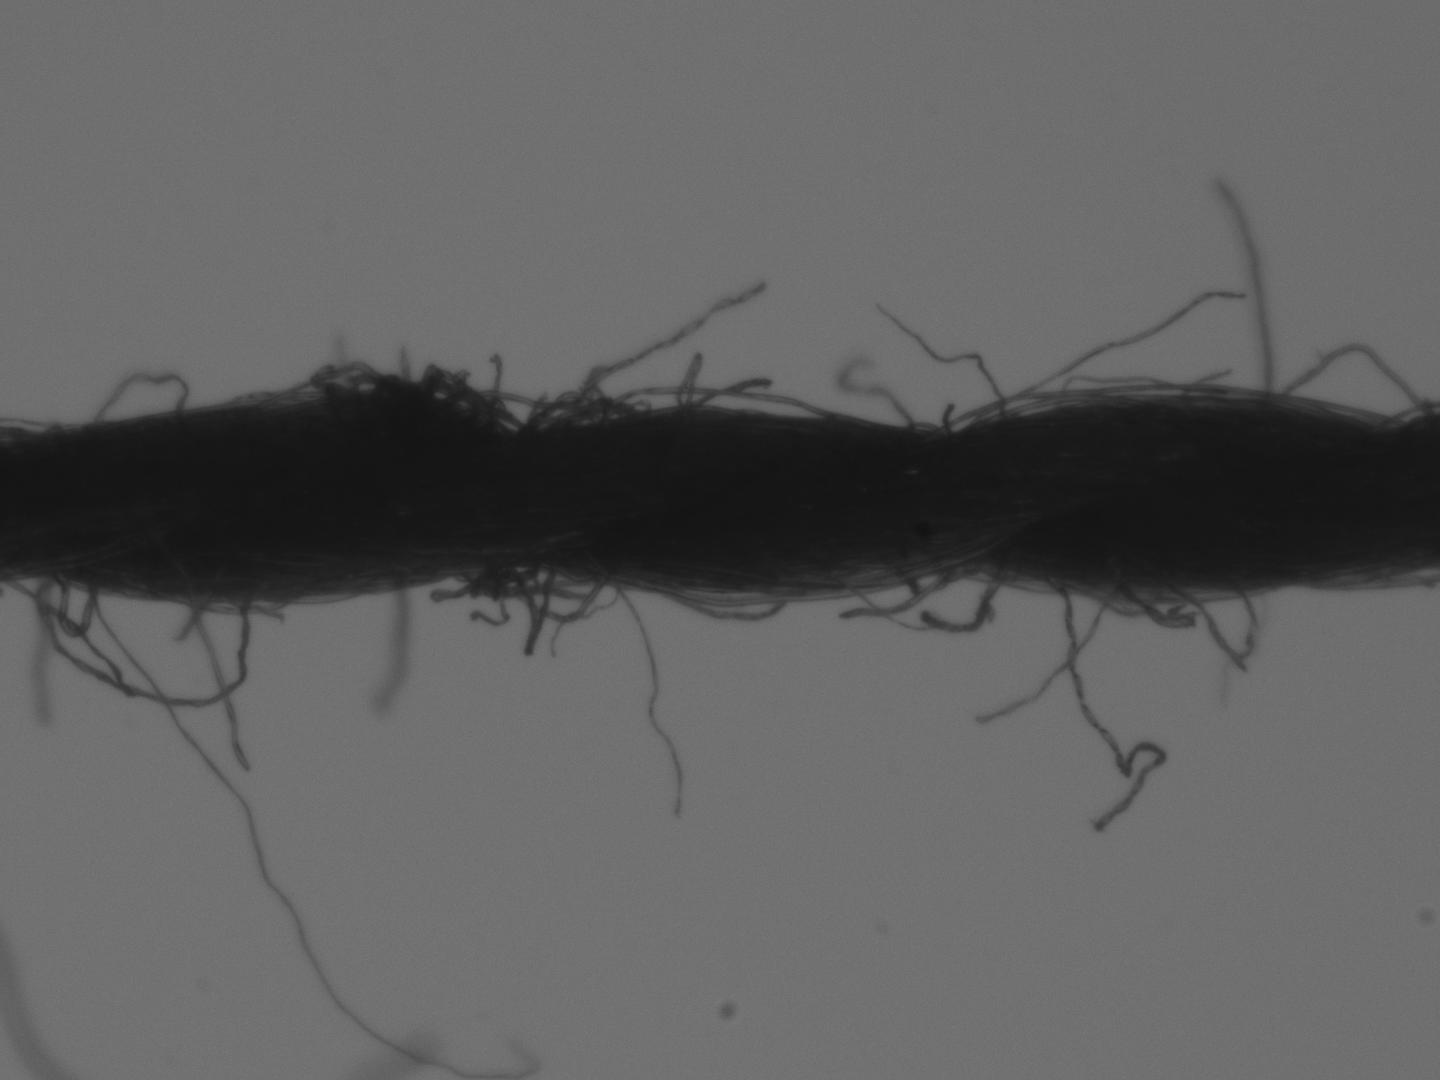loop_fiber: (33, 572, 256, 711), (209, 357, 516, 429), (452, 558, 624, 656), (1269, 339, 1435, 430), (1146, 567, 1267, 675), (517, 383, 646, 439), (83, 369, 188, 434), (666, 582, 789, 628)
protruding_fiber: (976, 585, 1127, 727), (1212, 169, 1276, 411)
